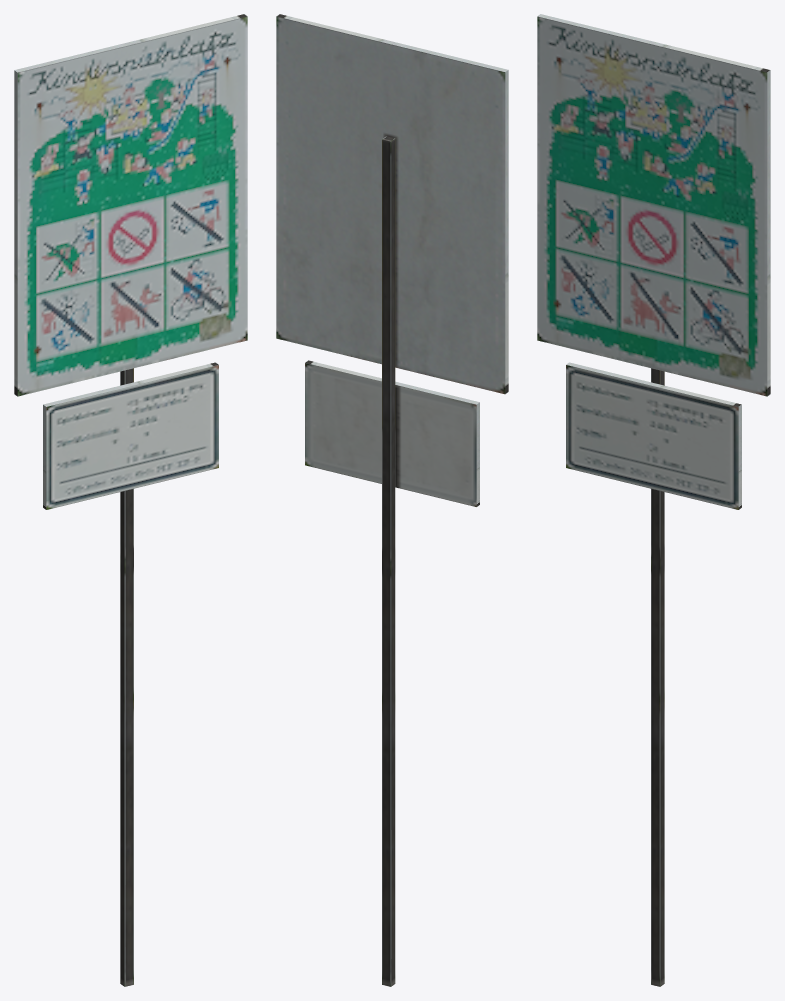
Rendered from PlaygroundSign01.obj.
3 renders of one model, left to right at view 1: azimuth 30°, elevation 25°; view 2: azimuth 150°, elevation 25°; view 3: azimuth 330°, elevation 25°, orthographic.
Visible parts, largest first — view 1: PlaygroundSign01; view 2: PlaygroundSign01; view 3: PlaygroundSign01.
Part boxes in pixels (<box>): PlaygroundSign01: <box>14,14,247,986</box>; PlaygroundSign01: <box>276,14,508,986</box>; PlaygroundSign01: <box>537,14,770,986</box>.
Size of the model in its own units: 1.2 by 4.7 by 0.07.
